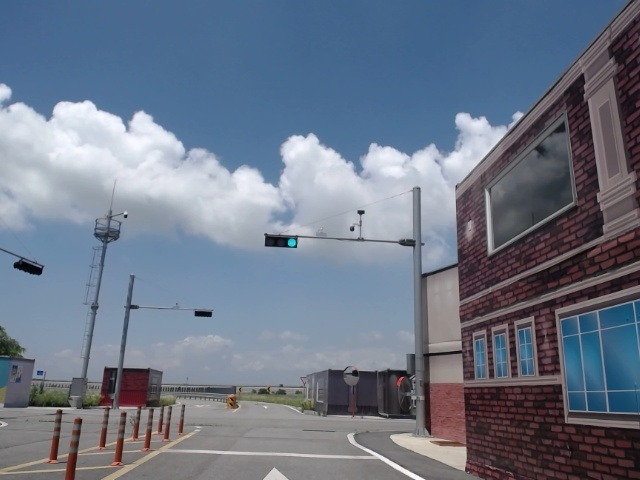green_3: (266, 238, 297, 247)
